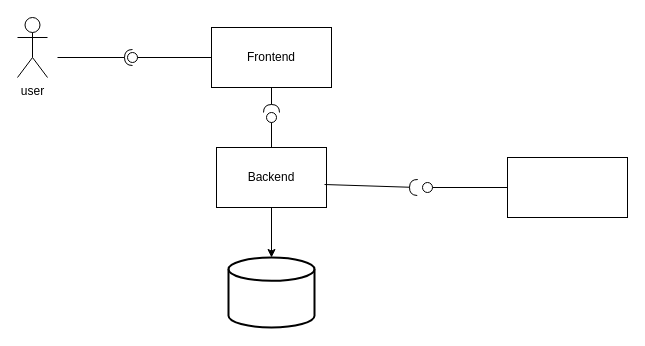
This 645x346 diagram has some shape labels left out. Each missing label, with the centre of its shape:
"Authentificacion Gmail" belongs at (x=567, y=187).
"Base de datos" belongs at (x=271, y=292).
